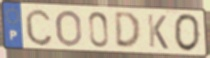0: (87, 10, 110, 49)
C: (23, 7, 54, 48)
D: (113, 11, 143, 51)
K: (146, 13, 170, 51)
O: (173, 12, 202, 53), (55, 9, 84, 48)
